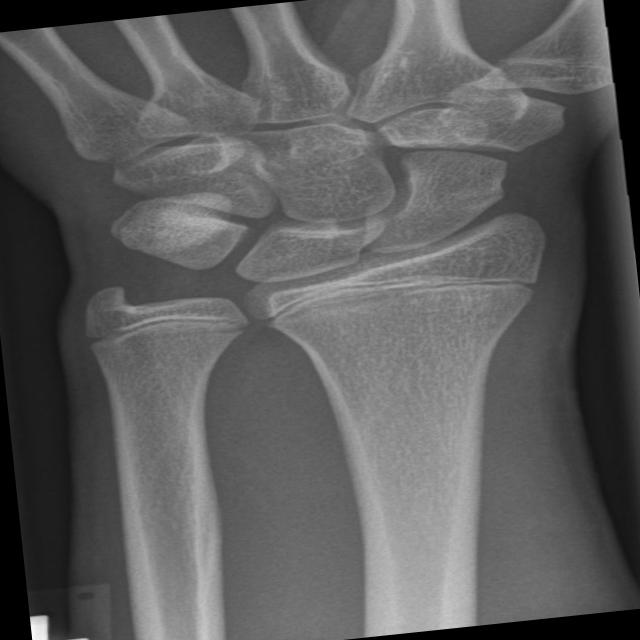fracture: (241, 246, 555, 337), (67, 287, 271, 360)
